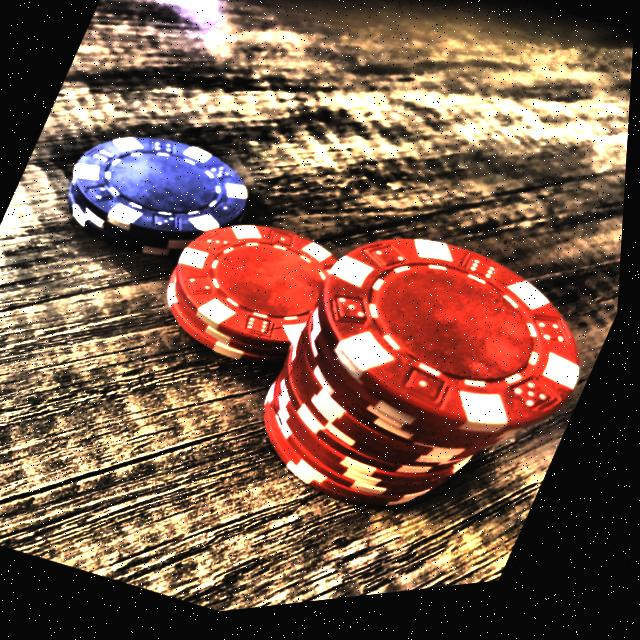Chip: (189, 166, 630, 603), (119, 157, 379, 429), (35, 81, 285, 311)
